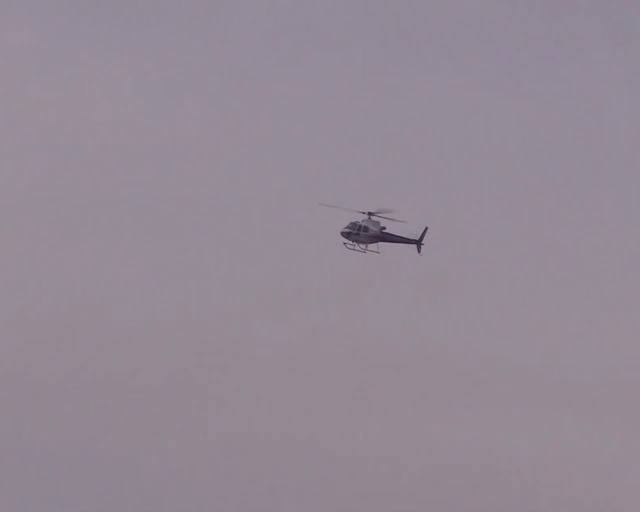HELICOPTER: (318, 201, 429, 254)
